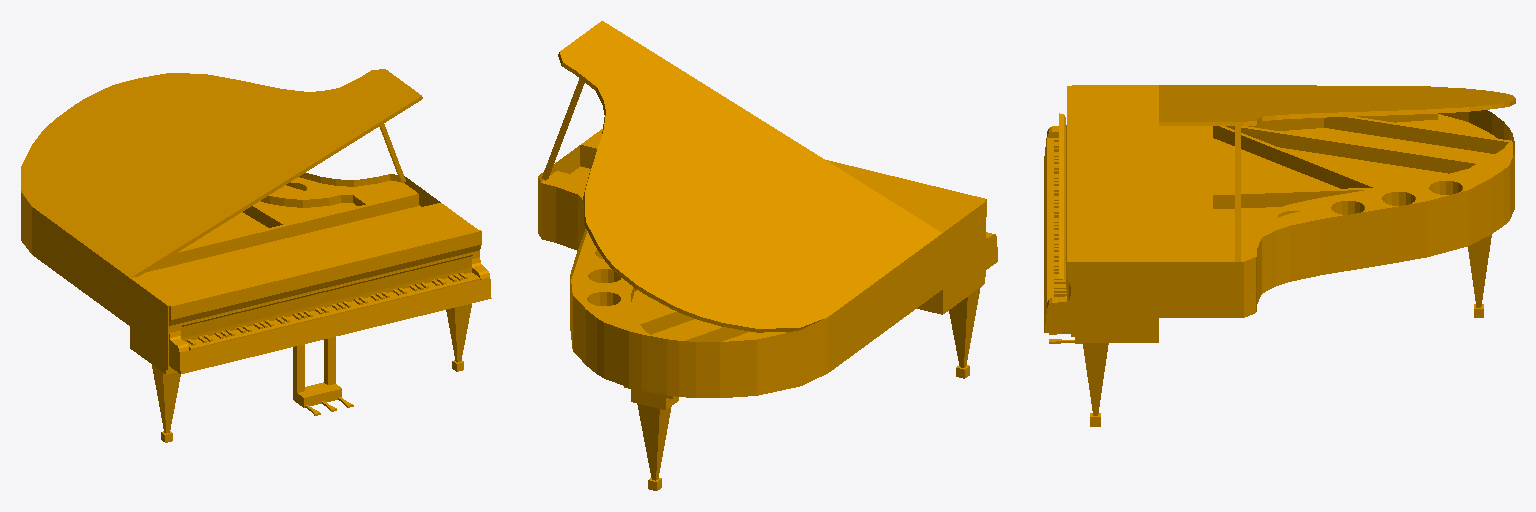
URDF robot description (none):
<robot name="none">
       <link name="none">
           <visual>
               <origin rpy="1.57 0 0" xyz="0 0 0" />
               <geometry>
                   <mesh filename="pianoAQueue.obj" />
               </geometry>
           </visual>
          <collision>
              <geometry>
                  <box size="0.889989 0.697380 1.000000" />
              </geometry>
          </collision>

          <inertial>
            <mass value="0.0" />
            <inertia ixx="0.0" ixy="0.0" ixz="0.0" iyy="0.0" iyz="0.0" izz="0.0" />
          </inertial>
      </link>
  </robot>

--- Render facts (derived) ---
The picture shows the robot from 3 angles, left to right: view 1: azimuth 30°, elevation 25°; view 2: azimuth 150°, elevation 25°; view 3: azimuth 270°, elevation 25°; orthographic projection.
Model none with 1 links and 0 joints (none), rooted at none, posed every joint at zero.
Visible links, largest first — view 1: none; view 2: none; view 3: none.
Boxes of the visible links, x1,y1,x2,y2 form: none: (21, 69, 491, 442); none: (538, 21, 997, 490); none: (1044, 85, 1515, 426).
Size in the robot's own frame: 0.89 by 1 by 0.6979 metres.
Meshes: 1 distinct files referenced, 1 mesh visuals loaded (1 OBJ).